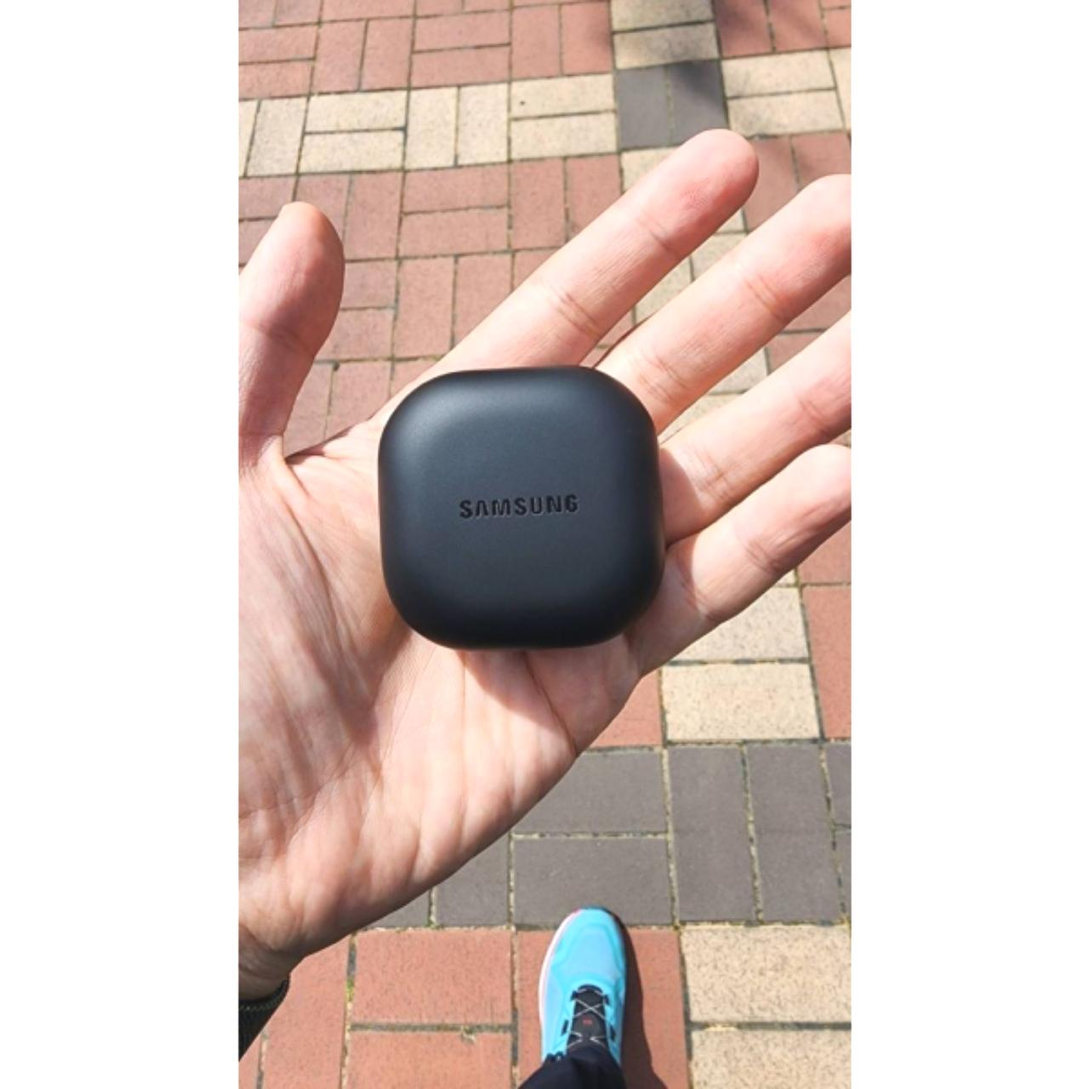Buds: (373, 364, 671, 656)
